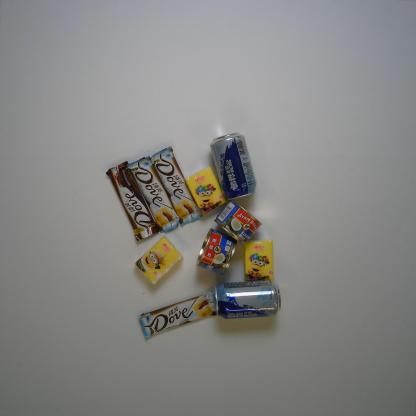Alcohol: (210, 132, 256, 201), (214, 279, 282, 320)
Canned Food: (214, 200, 262, 244), (196, 228, 237, 276)
Chocolate: (105, 160, 160, 242), (150, 146, 204, 226), (126, 156, 180, 233), (138, 291, 218, 339)
Tissue: (134, 235, 183, 285), (185, 166, 228, 215), (242, 240, 274, 282)
